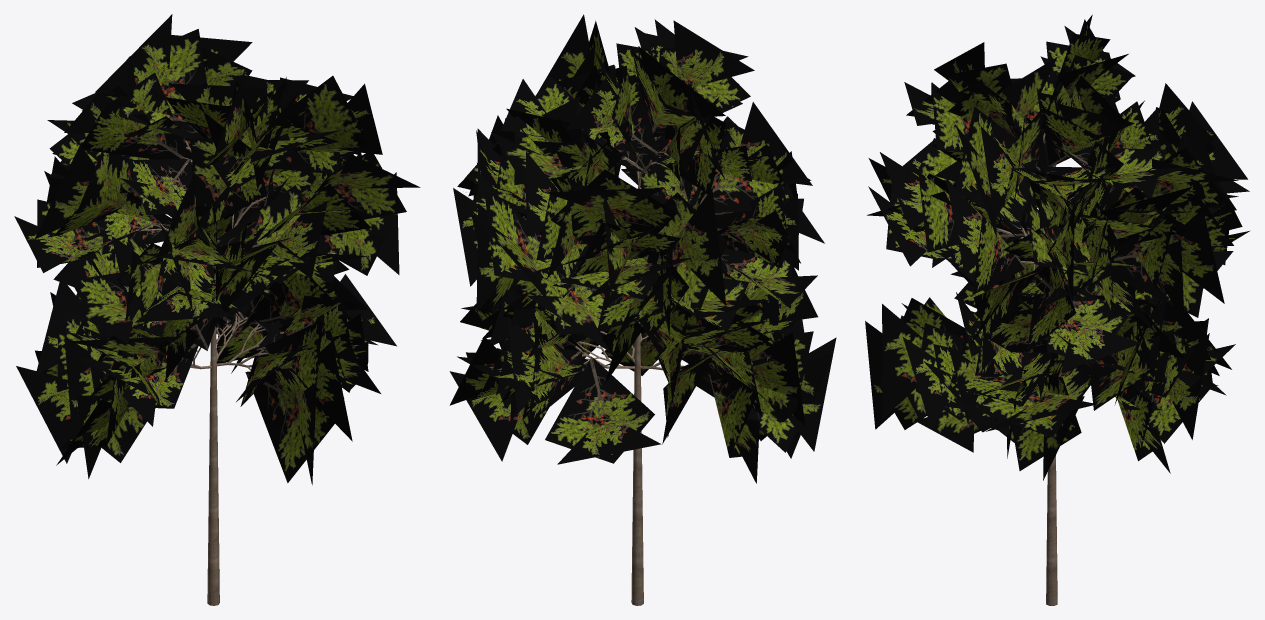
The model's file is forest-ash-tree-v1-optimized.glb.
3 renders of one model, left to right at view 1: azimuth 30°, elevation 25°; view 2: azimuth 150°, elevation 25°; view 3: azimuth 270°, elevation 25°, orthographic.
Parts seen in each view (by area): view 1: AshTree; view 2: AshTree; view 3: AshTree.
Boxes of the visible parts, x1,y1,x2,y2 form: AshTree: (14,14,420,605); AshTree: (449,14,836,605); AshTree: (865,14,1250,605).
Bounding box in the file's own units: 2.53 × 4.2 × 2.54.
2 materials, 2 textured.
